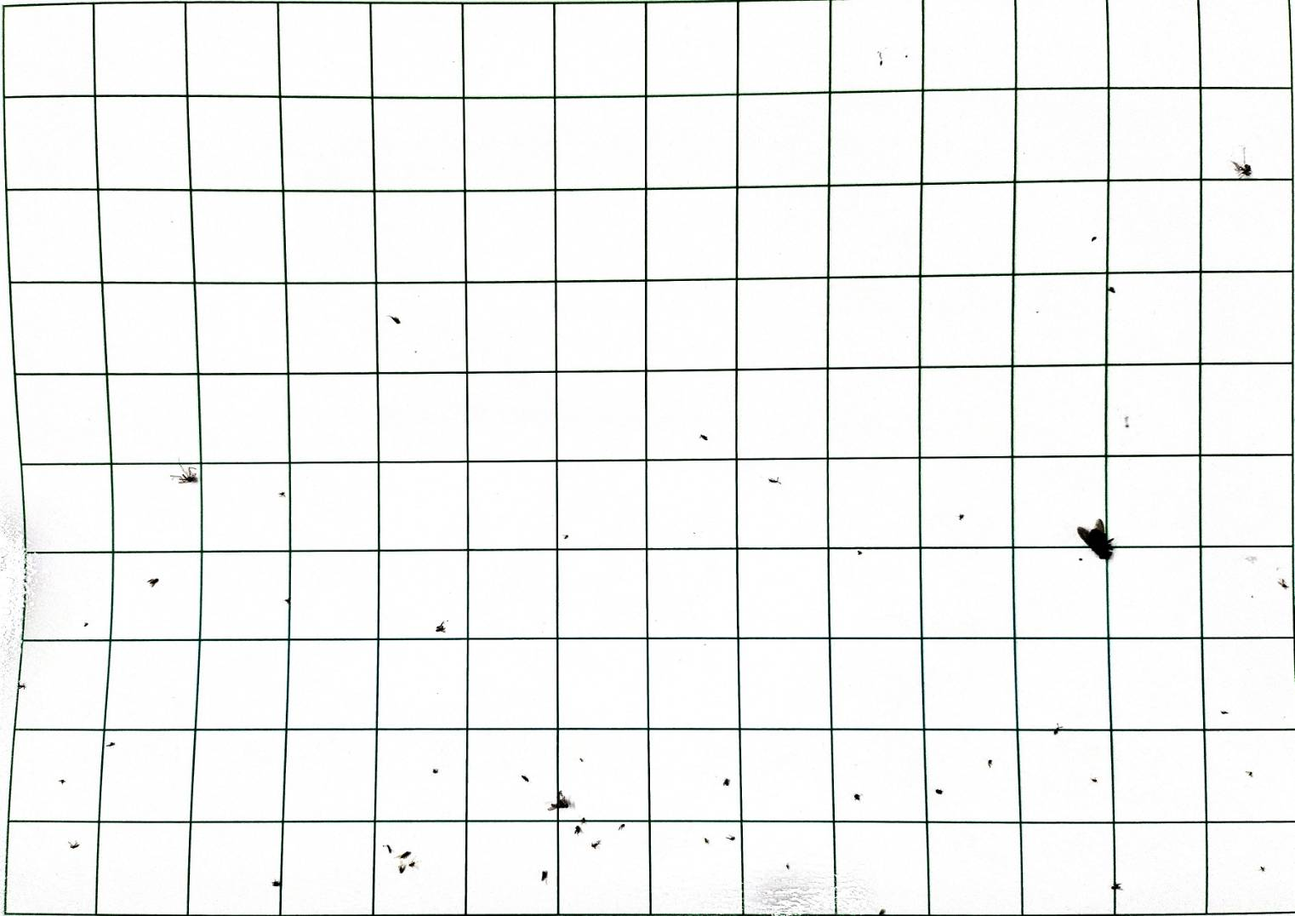fly: (1077, 517, 1117, 559), (546, 789, 572, 810)
test: (1228, 147, 1251, 177), (175, 467, 196, 485), (1277, 579, 1288, 591), (1110, 880, 1123, 890), (68, 839, 80, 849), (1052, 723, 1062, 735), (147, 577, 159, 587), (397, 850, 412, 858), (435, 622, 446, 632), (389, 315, 401, 324), (768, 476, 781, 484), (590, 840, 601, 849), (1245, 555, 1259, 562), (541, 869, 548, 882), (574, 823, 582, 834), (398, 862, 406, 873), (1123, 415, 1130, 427), (383, 844, 392, 853), (726, 833, 736, 841), (272, 879, 281, 887), (520, 774, 529, 782), (853, 792, 861, 800), (408, 860, 416, 868), (18, 682, 27, 689), (699, 434, 708, 441), (723, 777, 730, 786), (1245, 770, 1254, 777), (703, 836, 710, 844), (618, 823, 626, 830), (935, 787, 943, 794), (1108, 286, 1116, 293), (987, 758, 993, 767), (106, 741, 115, 747), (877, 908, 886, 914), (279, 491, 286, 497), (59, 778, 66, 784), (284, 597, 290, 604), (958, 513, 964, 520), (1091, 776, 1098, 782), (1260, 865, 1267, 871), (432, 767, 438, 774), (785, 862, 791, 869), (1091, 235, 1097, 242), (1221, 709, 1229, 714), (563, 533, 569, 539), (857, 549, 863, 555), (581, 816, 586, 823), (877, 51, 882, 58), (579, 756, 584, 762), (83, 621, 89, 626), (878, 61, 883, 66), (1078, 557, 1083, 561), (903, 54, 908, 58)
